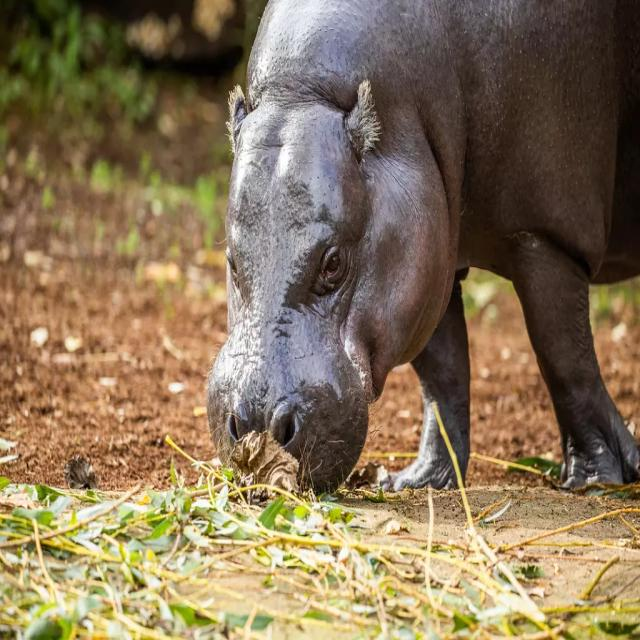Hippopotamus: (208, 0, 640, 522)
